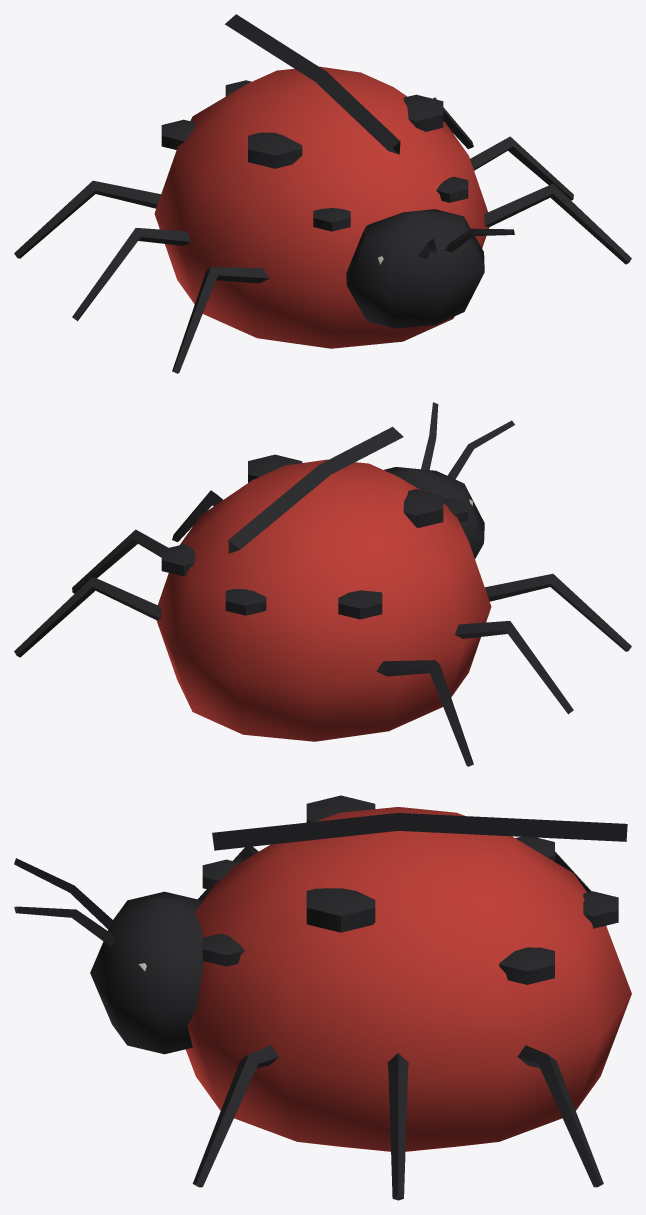
File: ladybug.glb
3 views of the same model, one above another, from view 1: azimuth 30°, elevation 25°; view 2: azimuth 150°, elevation 25°; view 3: azimuth 270°, elevation 25° (orthographic). The views are drawn at different scales.
Visible parts, largest first — view 1: ladybug; view 2: ladybug; view 3: ladybug.
Boxes of the visible parts, x1,y1,x2,y2 form: ladybug: [14, 14, 631, 373]; ladybug: [14, 402, 631, 766]; ladybug: [14, 795, 631, 1200].
Size of the model in its own units: 1.97 by 0.8946 by 1.66.
